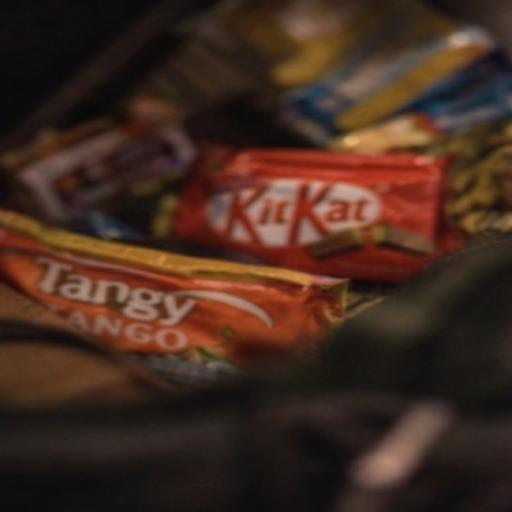kitkat: (102, 112, 512, 304)
